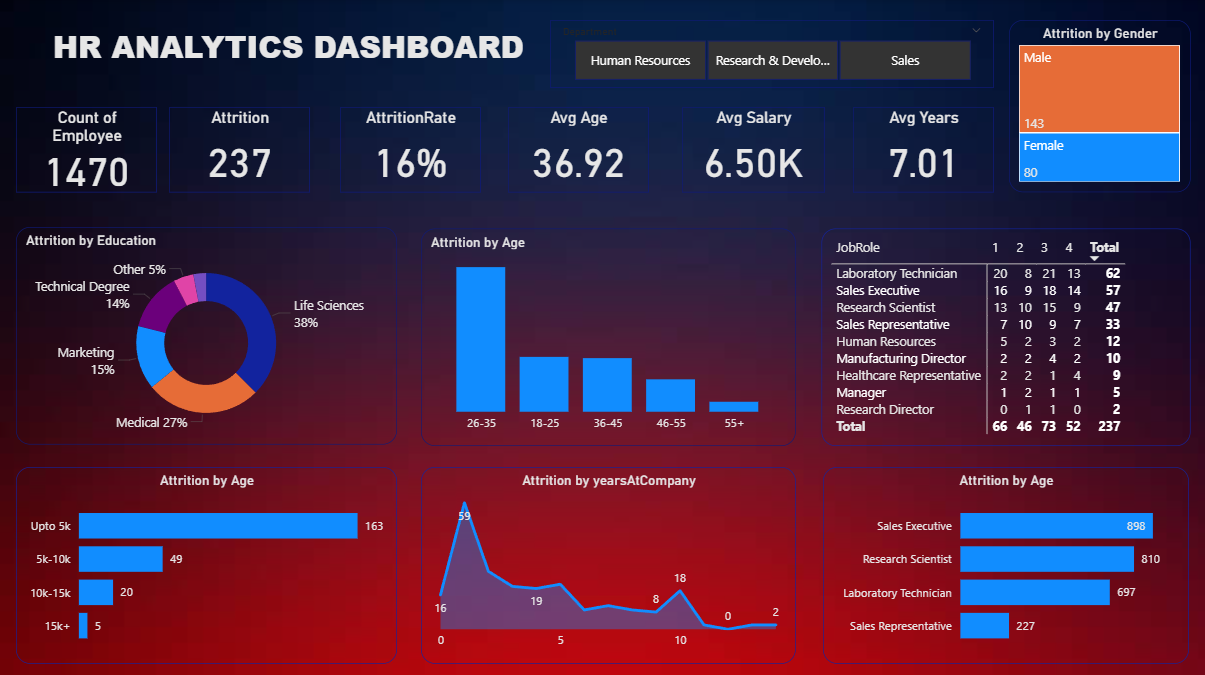

What the dashboard file says about the page in this screenshot:
{"tool":"powerbi","page":{"name":"Page 1","canvas":[1280,720],"ordinal":0},"visuals":[{"type":"card","title":"Count of Employee","fields":{"Values":["CountNonNull(HR_Analytics.EmpID)"]},"box":[19.1,114.5,149.5,90.7],"z":0},{"type":"card","title":"Attrition","fields":{"Values":["Sum(HR_Analytics.AttritionCount)"]},"box":[181.3,114.5,149.5,90.7],"z":1000},{"type":"card","title":"AttritionRate","fields":{"Values":["HR_Analytics.AttritionRate"]},"box":[362.8,115.3,149.3,90.7],"z":2000},{"type":"card","title":"Avg Age","fields":{"Values":["Avg(HR_Analytics.Age)"]},"box":[540.5,115.3,149.3,90.7],"z":3000},{"type":"card","title":"Avg Salary","fields":{"Values":["Avg(HR_Analytics.MonthlyIncome)"]},"box":[725.3,114.5,151.1,90.7],"z":4000},{"type":"card","title":"Avg Years","fields":{"Values":["Avg(HR_Analytics.YearsAtCompany)"]},"box":[907.1,115.3,149.3,90.7],"z":5000},{"type":"donutChart","title":"Attrition by Education","fields":{"Category":["HR_Analytics.EducationField"],"Y":["Sum(HR_Analytics.AttritionCount)"]},"box":[19.1,241.8,404,230.6],"z":6000},{"type":"columnChart","title":"Attrition by Age","fields":{"Category":["HR_Analytics.AgeGroup"],"Y":["Sum(HR_Analytics.AttritionCount)"]},"box":[448.6,243.4,397.7,230.6],"z":7000},{"type":"pivotTable","fields":{"Values":["Sum(HR_Analytics.AttritionCount)"],"Rows":["HR_Analytics.JobRole"],"Columns":["HR_Analytics.JobSatisfaction"]},"box":[873.2,243.4,391.3,230.6],"z":8000},{"type":"barChart","title":"Attrition by Age","fields":{"Category":["HR_Analytics.SalarySlab"],"Y":["Sum(HR_Analytics.AttritionCount)"]},"box":[19.1,496.3,404,208.4],"z":9000},{"type":"barChart","title":"Attrition by Age","fields":{"Category":["HR_Analytics.JobRole"],"Y":["Sum(HR_Analytics.JobSatisfaction)"]},"box":[874.8,496.3,388.1,208.4],"z":10000},{"type":"areaChart","title":"Attrition by yearsAtCompany","fields":{"Category":["HR_Analytics.YearsAtCompany"],"Y":["Sum(HR_Analytics.AttritionCount)"]},"box":[448.6,496.3,397.7,208.4],"z":11000},{"type":"treemap","title":"Attrition by Gender","fields":{"Values":["Sum(HR_Analytics.AttritionCount)"],"Group":["HR_Analytics.Gender"]},"box":[1072.1,22.3,192.5,182.9],"z":12000},{"type":"slicer","fields":{"Values":["HR_Analytics.Department"]},"box":[585.8,22.7,470.6,71.8],"z":13000},{"type":"textbox","box":[0,22.7,616.1,71.8],"z":14000}]}

Visuals, with their boxes in screenshot pixels (x1, y1, x2, y2), scaled from the page's 1280x720 canvas onto the 1205x675 screenshot:
"Count of Employee" card: [x1=18, y1=107, x2=159, y2=192]
"Attrition" card: [x1=171, y1=107, x2=311, y2=192]
"AttritionRate" card: [x1=342, y1=108, x2=482, y2=193]
"Avg Age" card: [x1=509, y1=108, x2=649, y2=193]
"Avg Salary" card: [x1=683, y1=107, x2=825, y2=192]
"Avg Years" card: [x1=854, y1=108, x2=995, y2=193]
"Attrition by Education" donutChart: [x1=18, y1=227, x2=398, y2=443]
"Attrition by Age" columnChart: [x1=422, y1=228, x2=797, y2=444]
pivotTable - Sum(HR_Analytics.AttritionCount) x HR_Analytics.JobRole: [x1=822, y1=228, x2=1190, y2=444]
"Attrition by Age" barChart: [x1=18, y1=465, x2=398, y2=661]
"Attrition by Age" barChart: [x1=824, y1=465, x2=1189, y2=661]
"Attrition by yearsAtCompany" areaChart: [x1=422, y1=465, x2=797, y2=661]
"Attrition by Gender" treemap: [x1=1009, y1=21, x2=1191, y2=192]
slicer - HR_Analytics.Department: [x1=551, y1=21, x2=995, y2=89]
textbox: [x1=0, y1=21, x2=580, y2=89]
